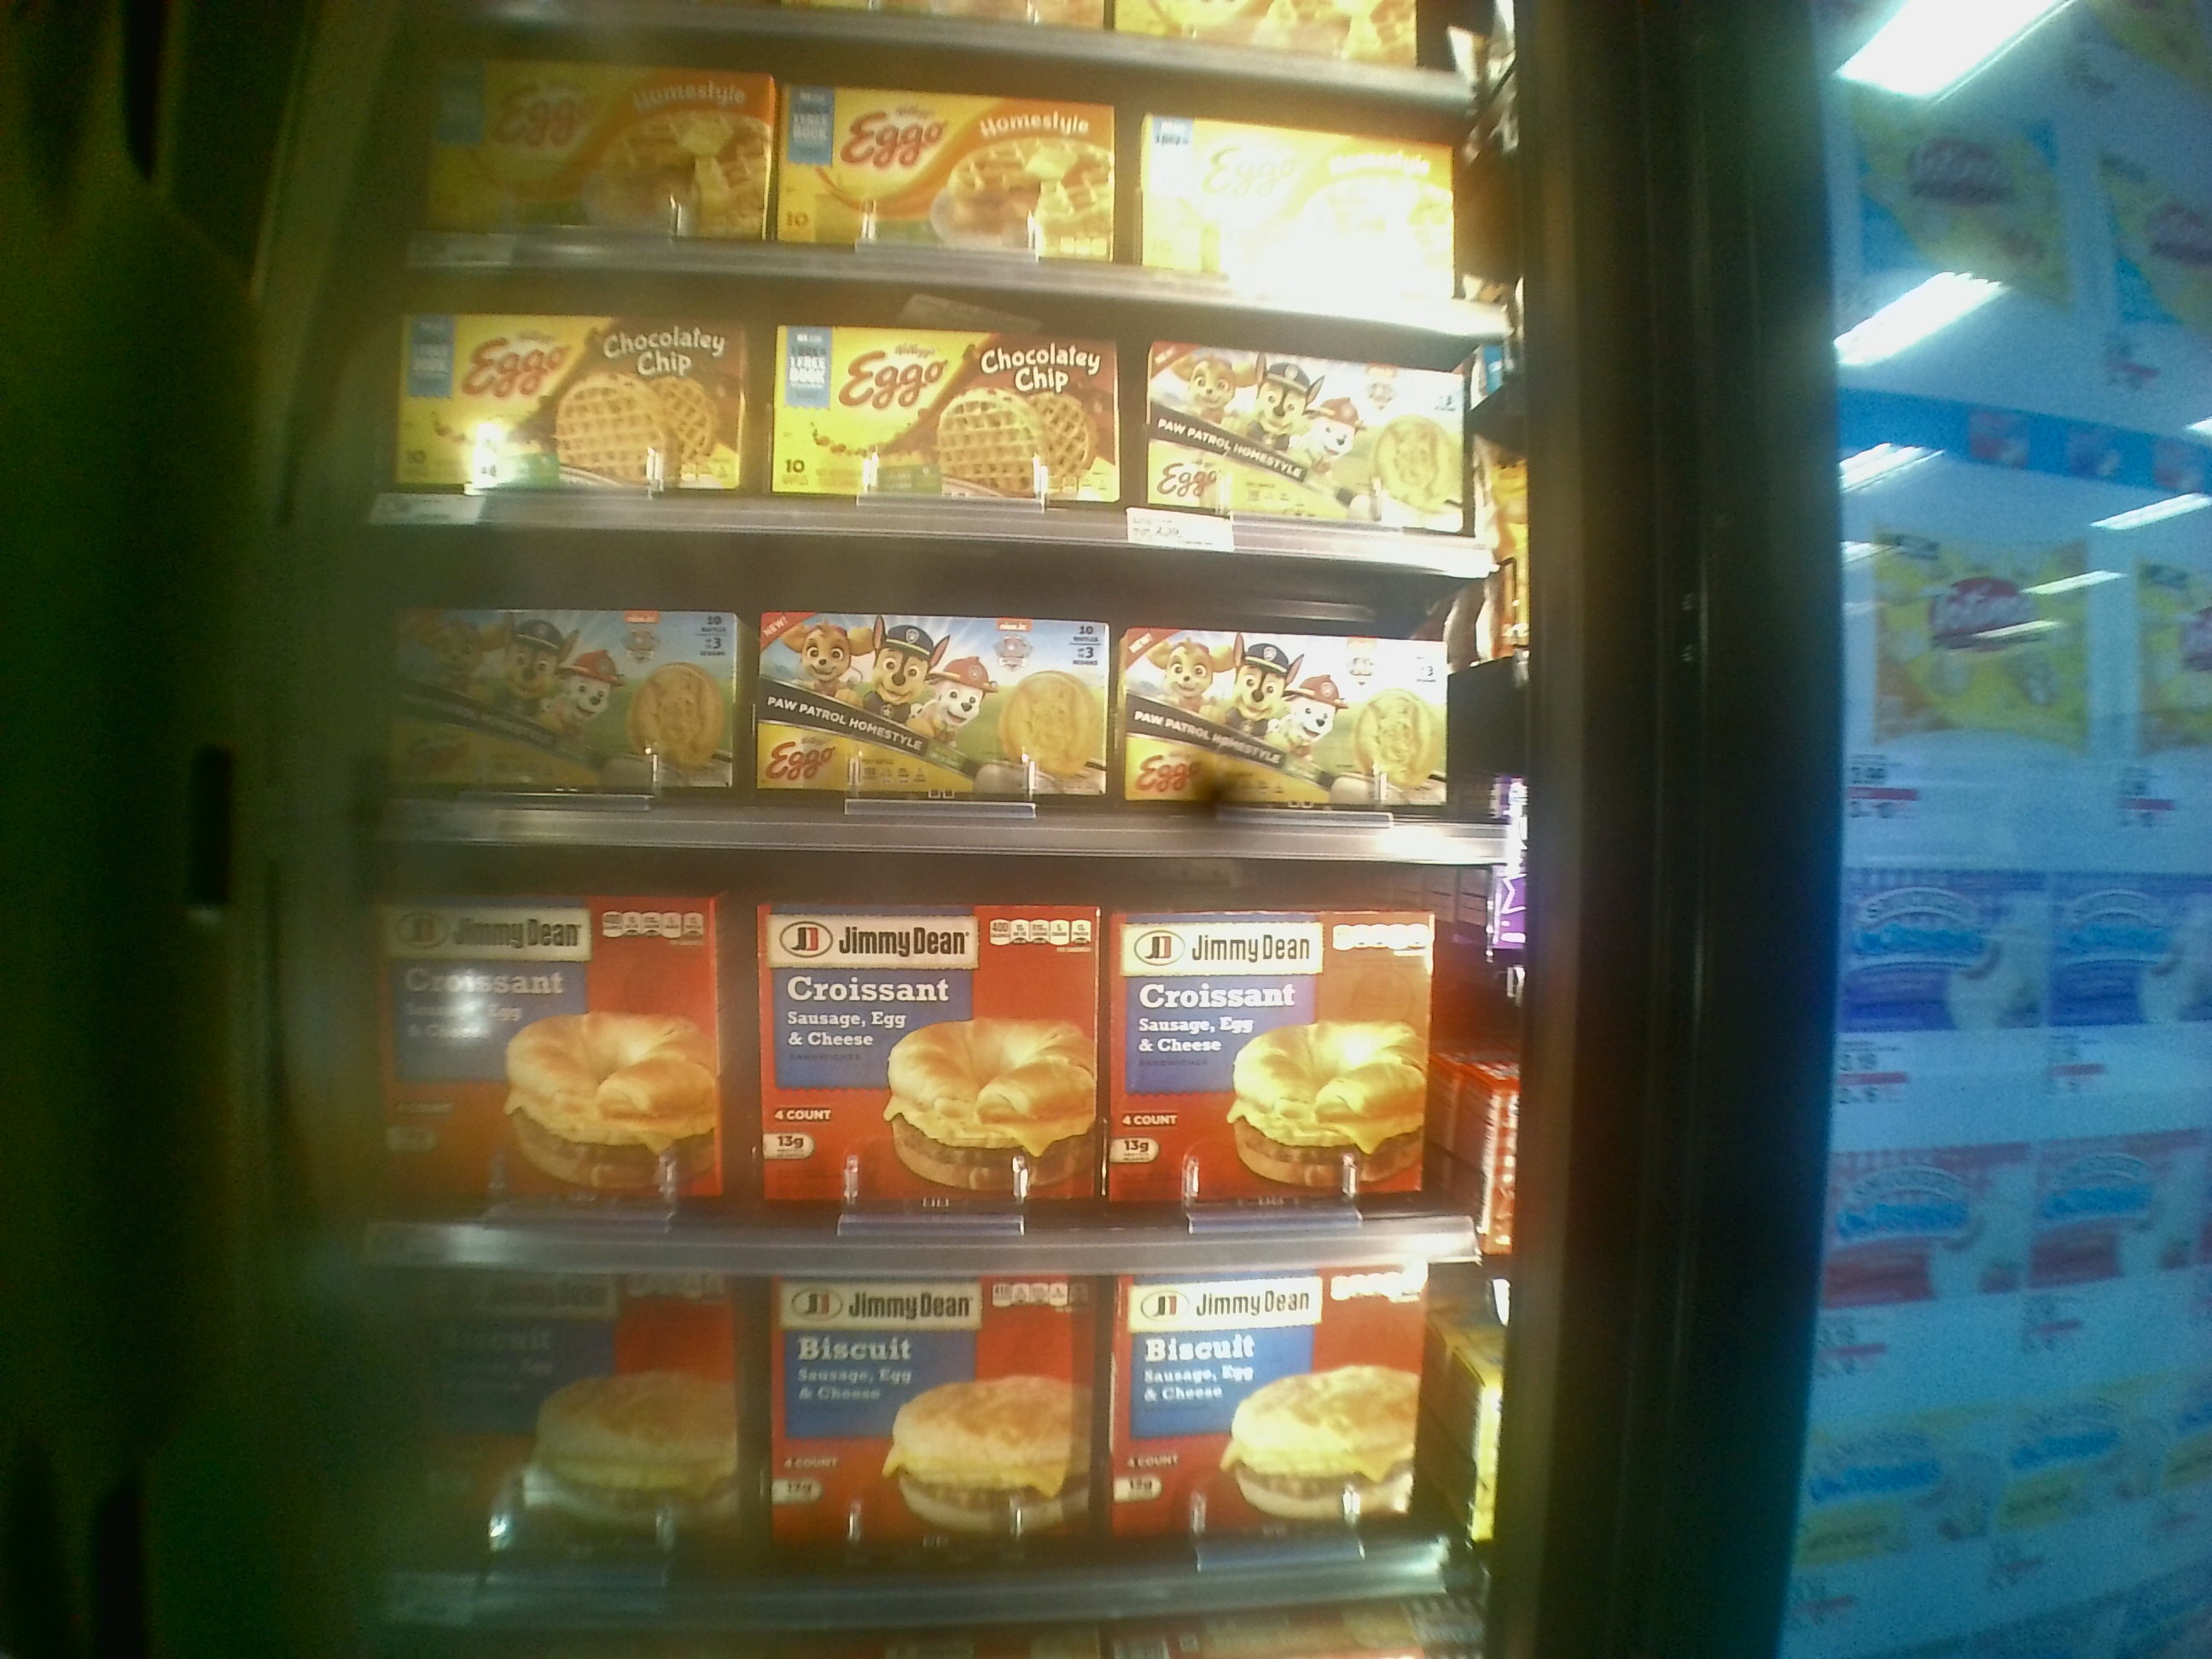shelf: (374, 836, 1489, 1256)
